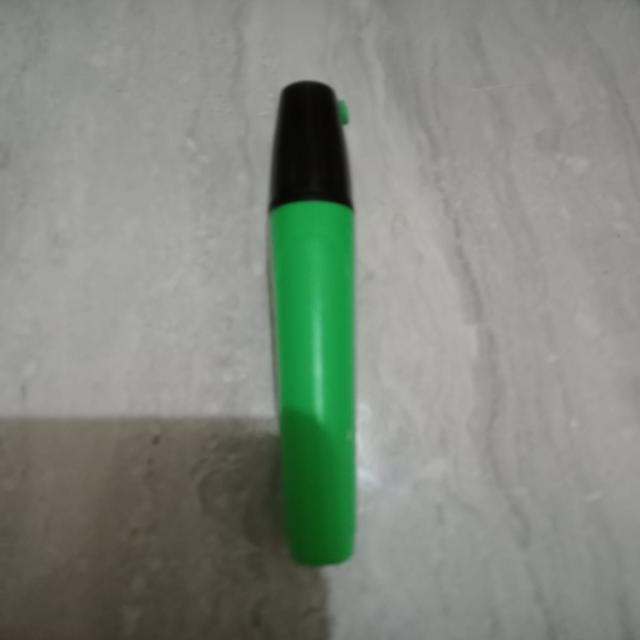highlighter: (197, 66, 475, 582)
